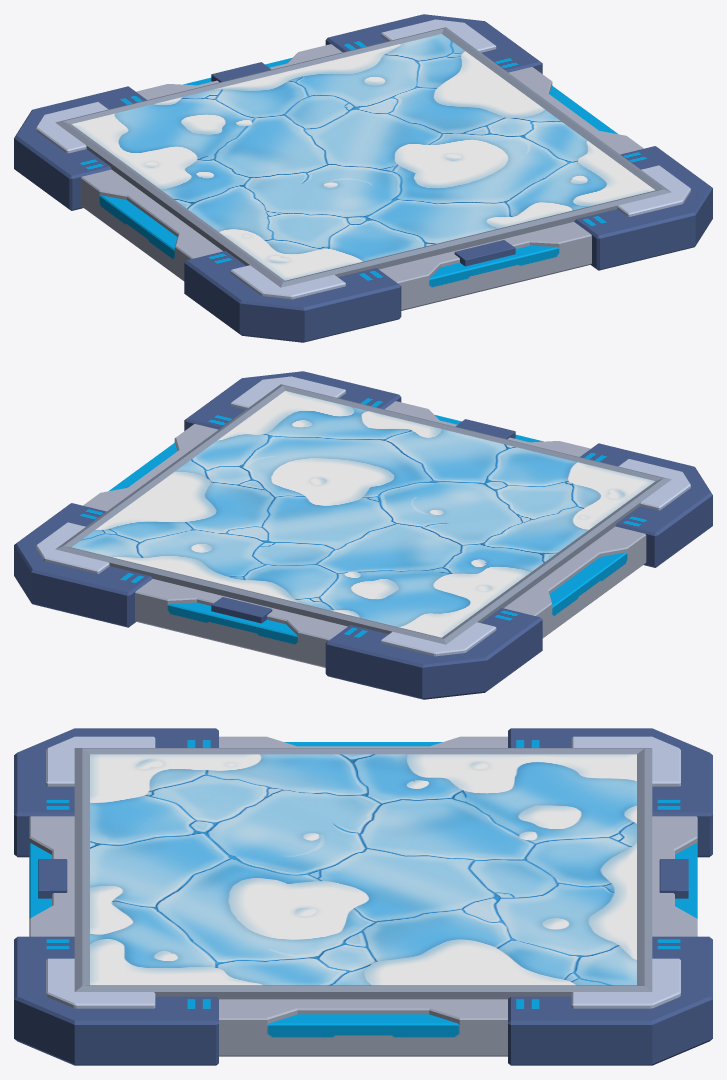
File: floor - highpoly - 2.fbx
The picture shows the model from 3 angles, top to bottom: view 1: azimuth 30°, elevation 25°; view 2: azimuth 150°, elevation 25°; view 3: azimuth 270°, elevation 25°; orthographic projection. The views are drawn at different scales.
Visible parts, largest first — view 1: floor, frame; view 2: floor, frame; view 3: floor, frame.
Boxes of the visible parts, <box> form: floor: <box>71,34,654,280</box>; frame: <box>14,14,712,342</box>; floor: <box>72,391,655,637</box>; frame: <box>14,371,712,699</box>; floor: <box>90,754,636,985</box>; frame: <box>14,728,712,1065</box>.
Bounding box in the file's own units: 2300 × 290 × 2300.
